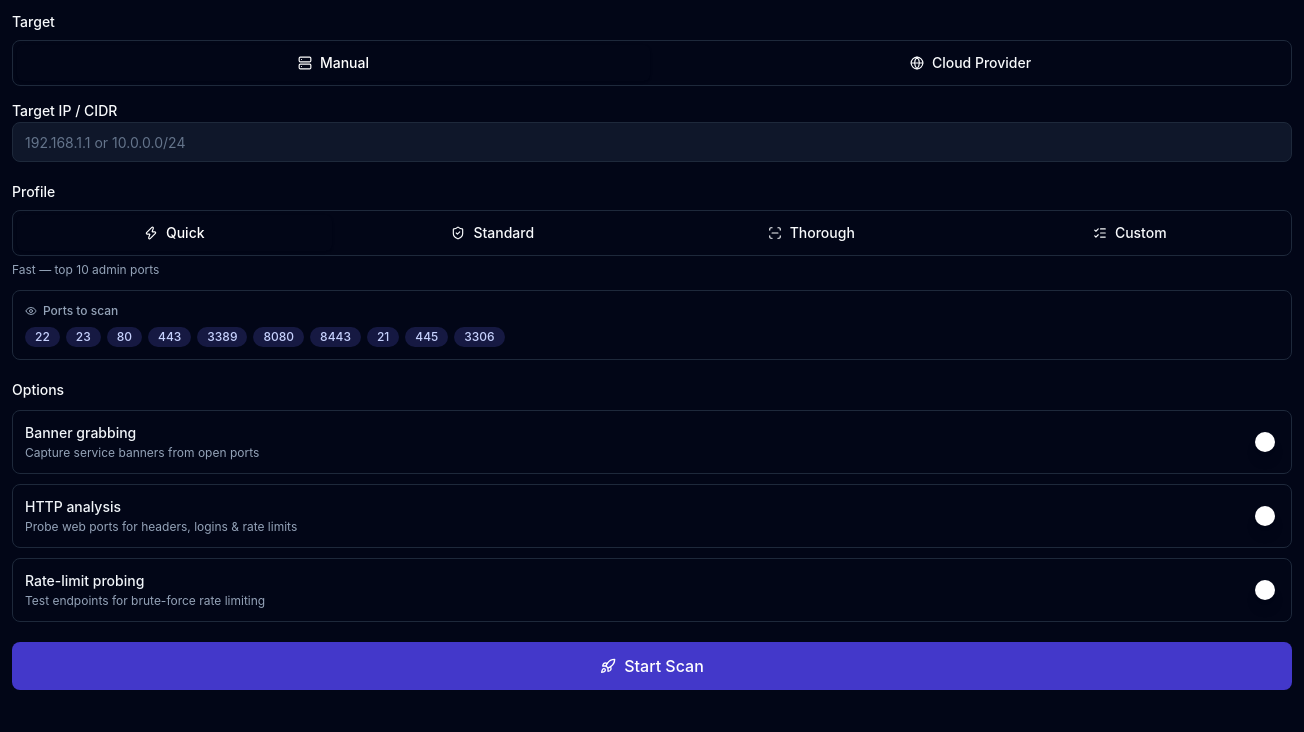
Test: ScanForm profile preview › shows the range summary for the thorough profile
Click the button "Thorough": (811, 233) [654,215,968,251]
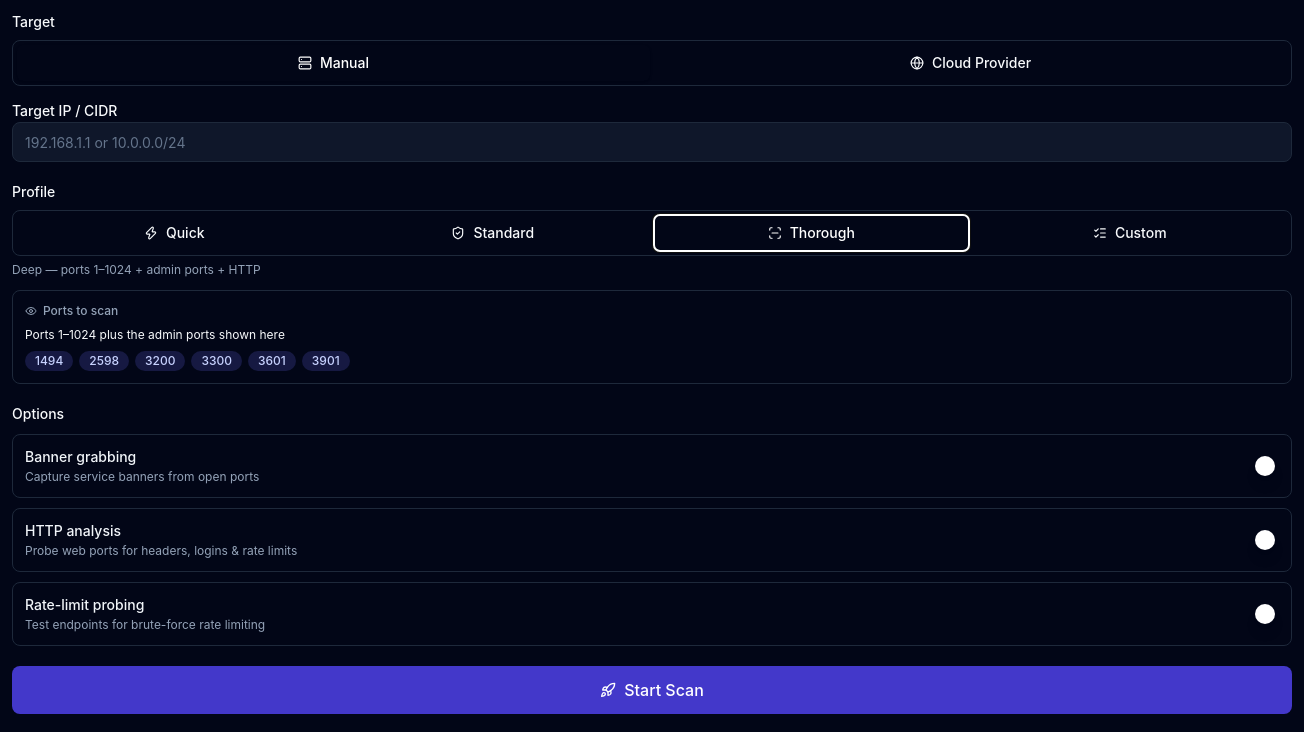
Expected: the text "Ports 1–1024 plus the admin ports shown here" is shown, [25,327,285,342]
